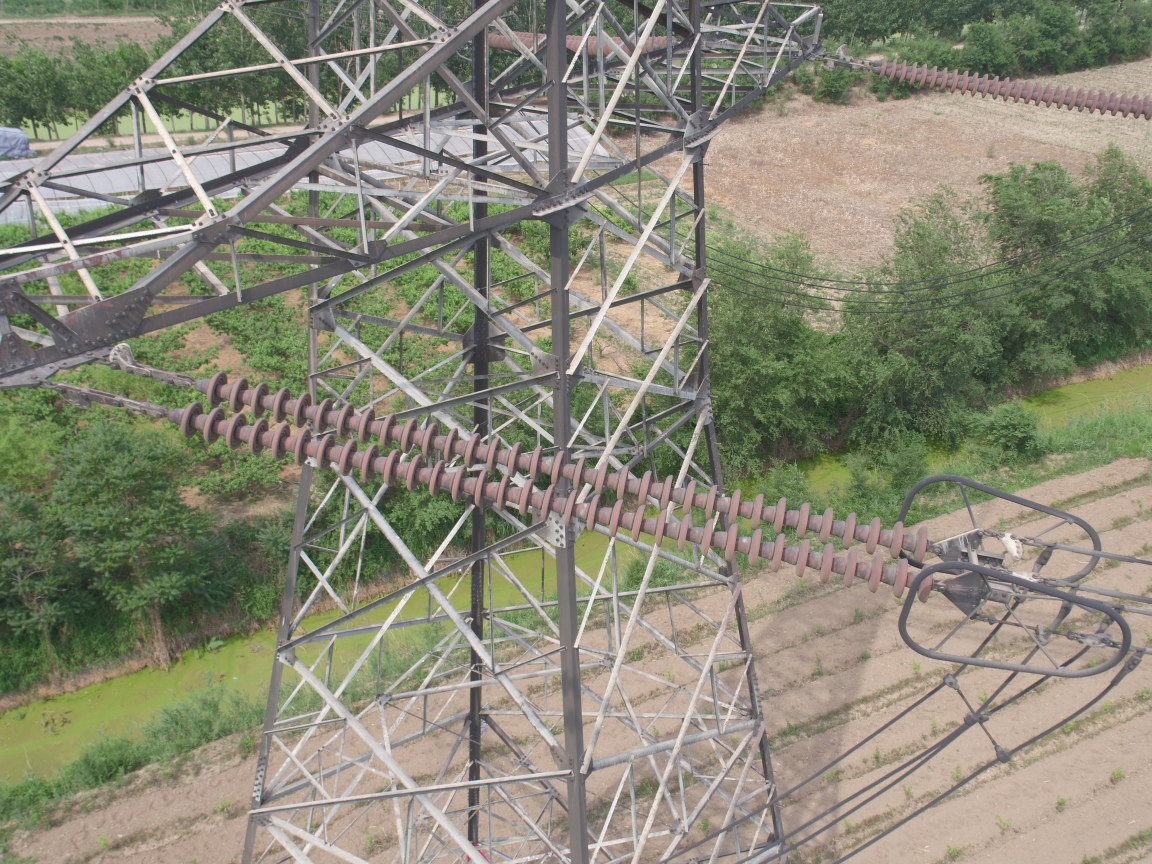insulator: (130, 364, 961, 605), (875, 57, 1152, 118)
